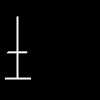double_crochet: (5, 17, 30, 78)
